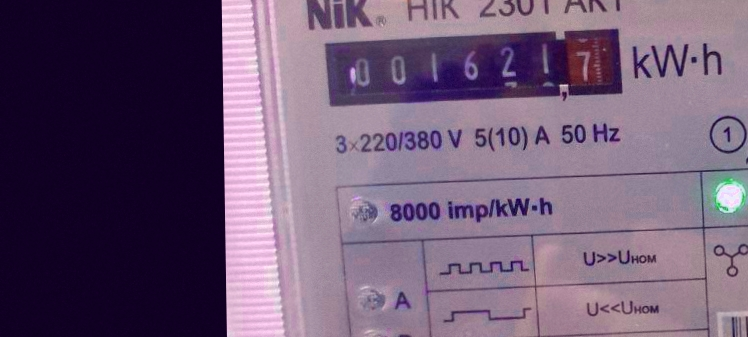0: (387, 51, 409, 88), (352, 53, 372, 88)
1: (538, 38, 552, 76), (427, 48, 441, 84)
2: (498, 43, 519, 79)
6: (461, 48, 480, 82)
7: (573, 47, 593, 83)
screen: (320, 25, 629, 111)
